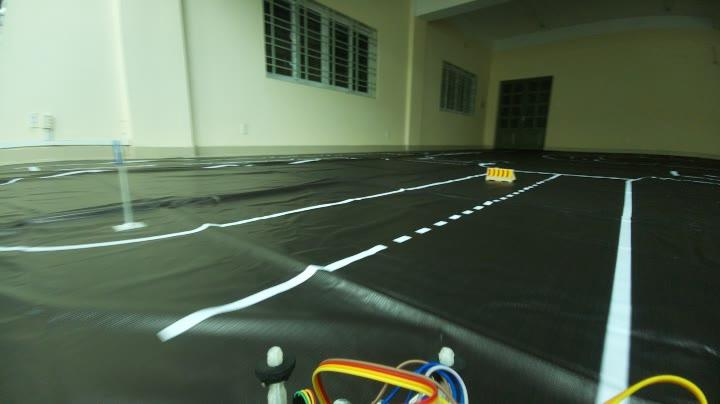onewayroad: (112, 139, 128, 170)
roadblock: (481, 162, 516, 184)
